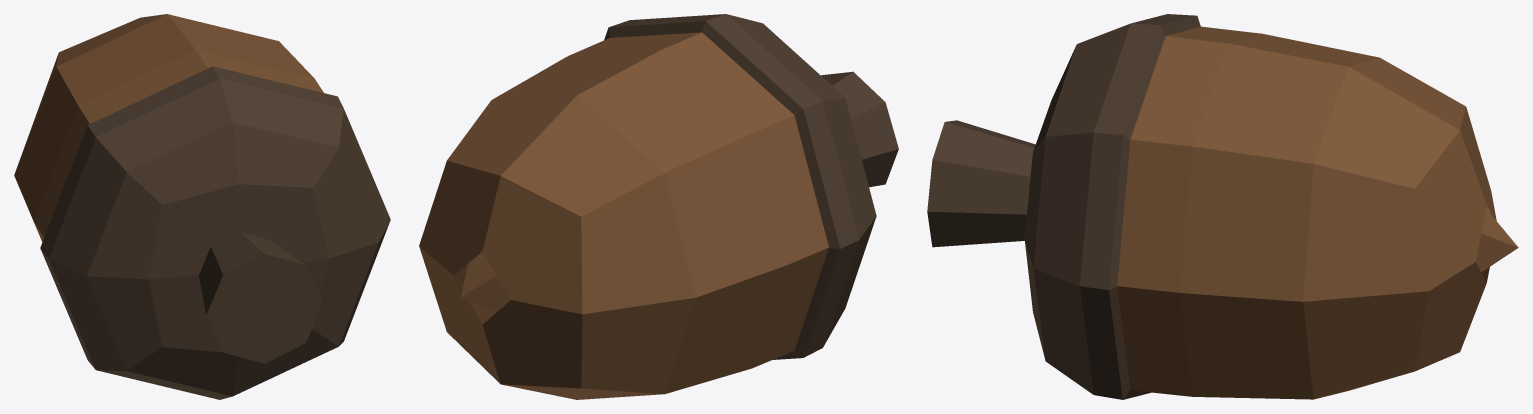
File: dotori12.gltf
3 views of the same model, side by side, from view 1: azimuth 30°, elevation 25°; view 2: azimuth 150°, elevation 25°; view 3: azimuth 270°, elevation 25° (orthographic). The views are drawn at different scales.
Parts seen in each view (by area): view 1: Cube.006_Cube.008, Cube.005_Cube.008; view 2: Cube.005_Cube.008, Cube.006_Cube.008; view 3: Cube.005_Cube.008, Cube.006_Cube.008.
Boxes of the visible parts, x1,y1,x2,y2 form: Cube.006_Cube.008: [40, 66, 390, 399]; Cube.005_Cube.008: [14, 14, 323, 241]; Cube.005_Cube.008: [419, 32, 828, 399]; Cube.006_Cube.008: [604, 14, 898, 359]; Cube.005_Cube.008: [1117, 26, 1518, 399]; Cube.006_Cube.008: [927, 14, 1200, 399].
Bounding box in the file's own units: 2.14 × 2.04 × 2.99.
